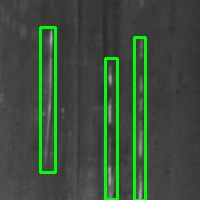inclusion: (99, 1, 123, 66)
scratches: (40, 27, 55, 172), (134, 37, 145, 200), (105, 58, 117, 199)
